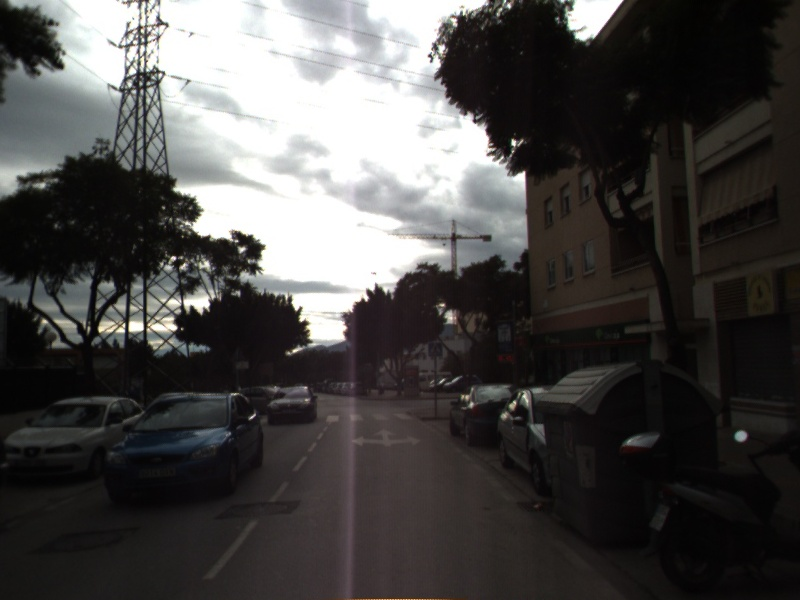STRAIGHT_LEFT_RIGHT: (350, 426, 423, 449)
